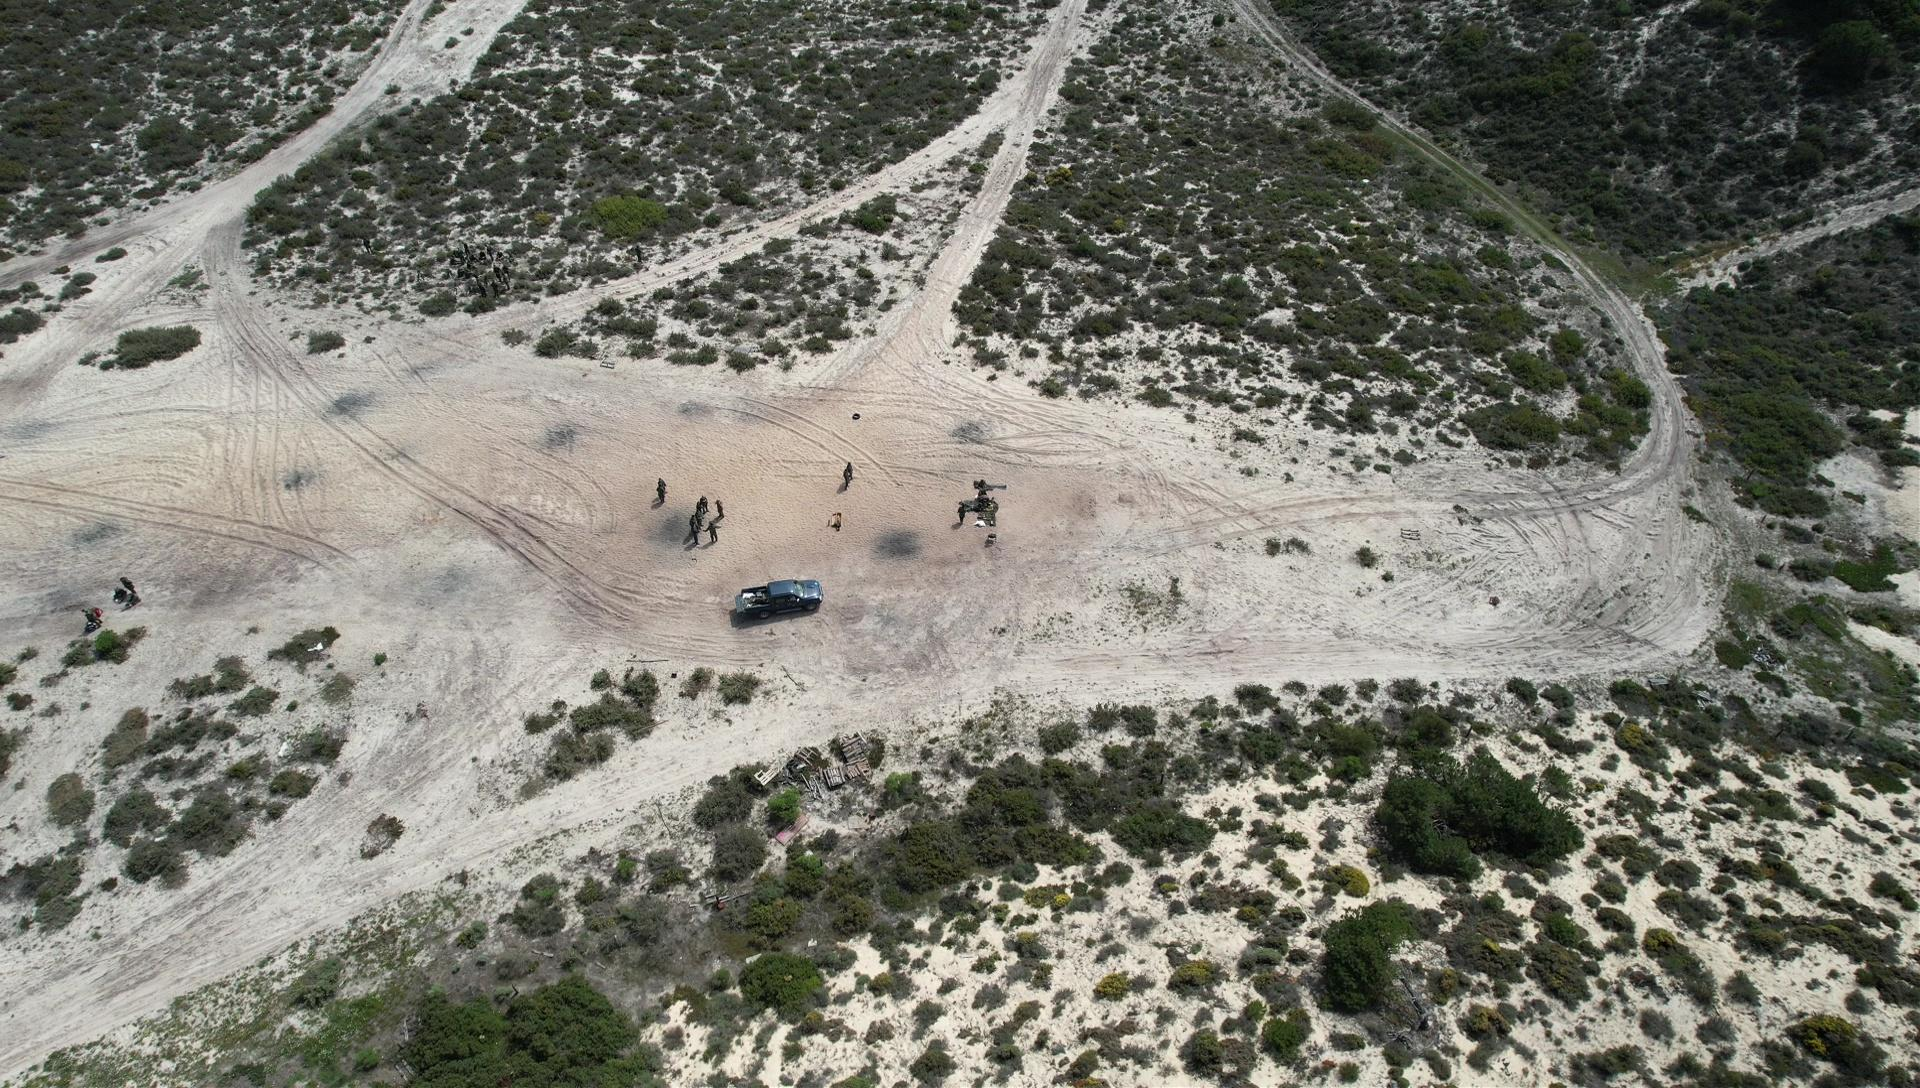Soldier: (646, 485, 676, 516), (688, 492, 711, 520), (967, 499, 1000, 516), (704, 522, 719, 549), (841, 464, 855, 491), (712, 499, 727, 522), (688, 517, 702, 542), (957, 502, 969, 524)
